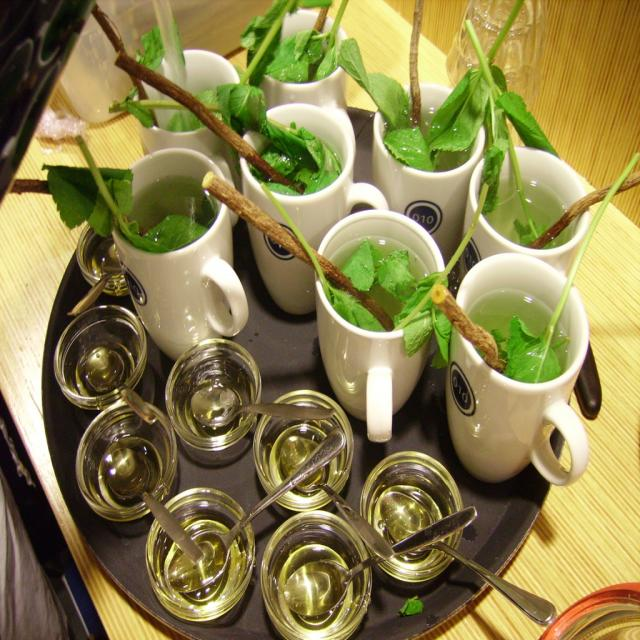Tea: (322, 235, 434, 330), (463, 289, 569, 382), (123, 176, 221, 254), (380, 106, 477, 177), (479, 176, 571, 248), (249, 123, 342, 194), (150, 61, 222, 128), (260, 30, 342, 83)
